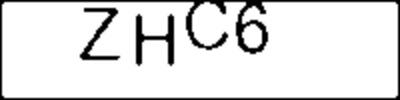6: (234, 1, 269, 58)
C: (185, 1, 231, 57)
H: (131, 10, 182, 73)
Z: (78, 3, 121, 64)
